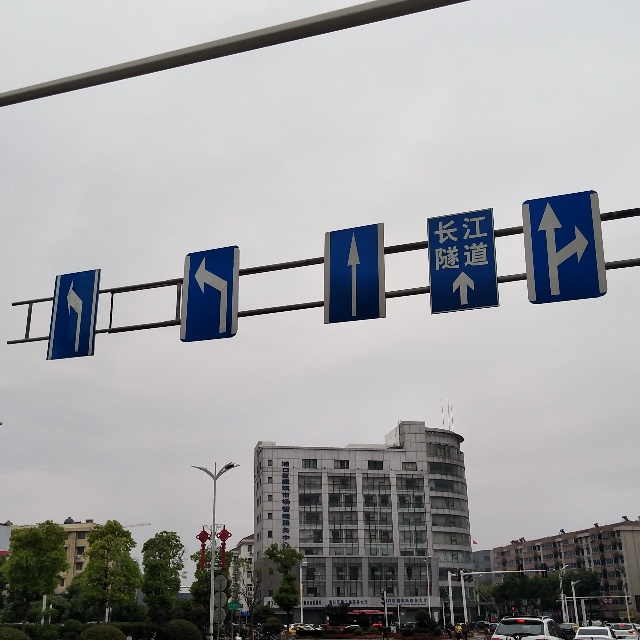left: (185, 249, 235, 341), (59, 275, 92, 358)
straight: (323, 233, 376, 319)
